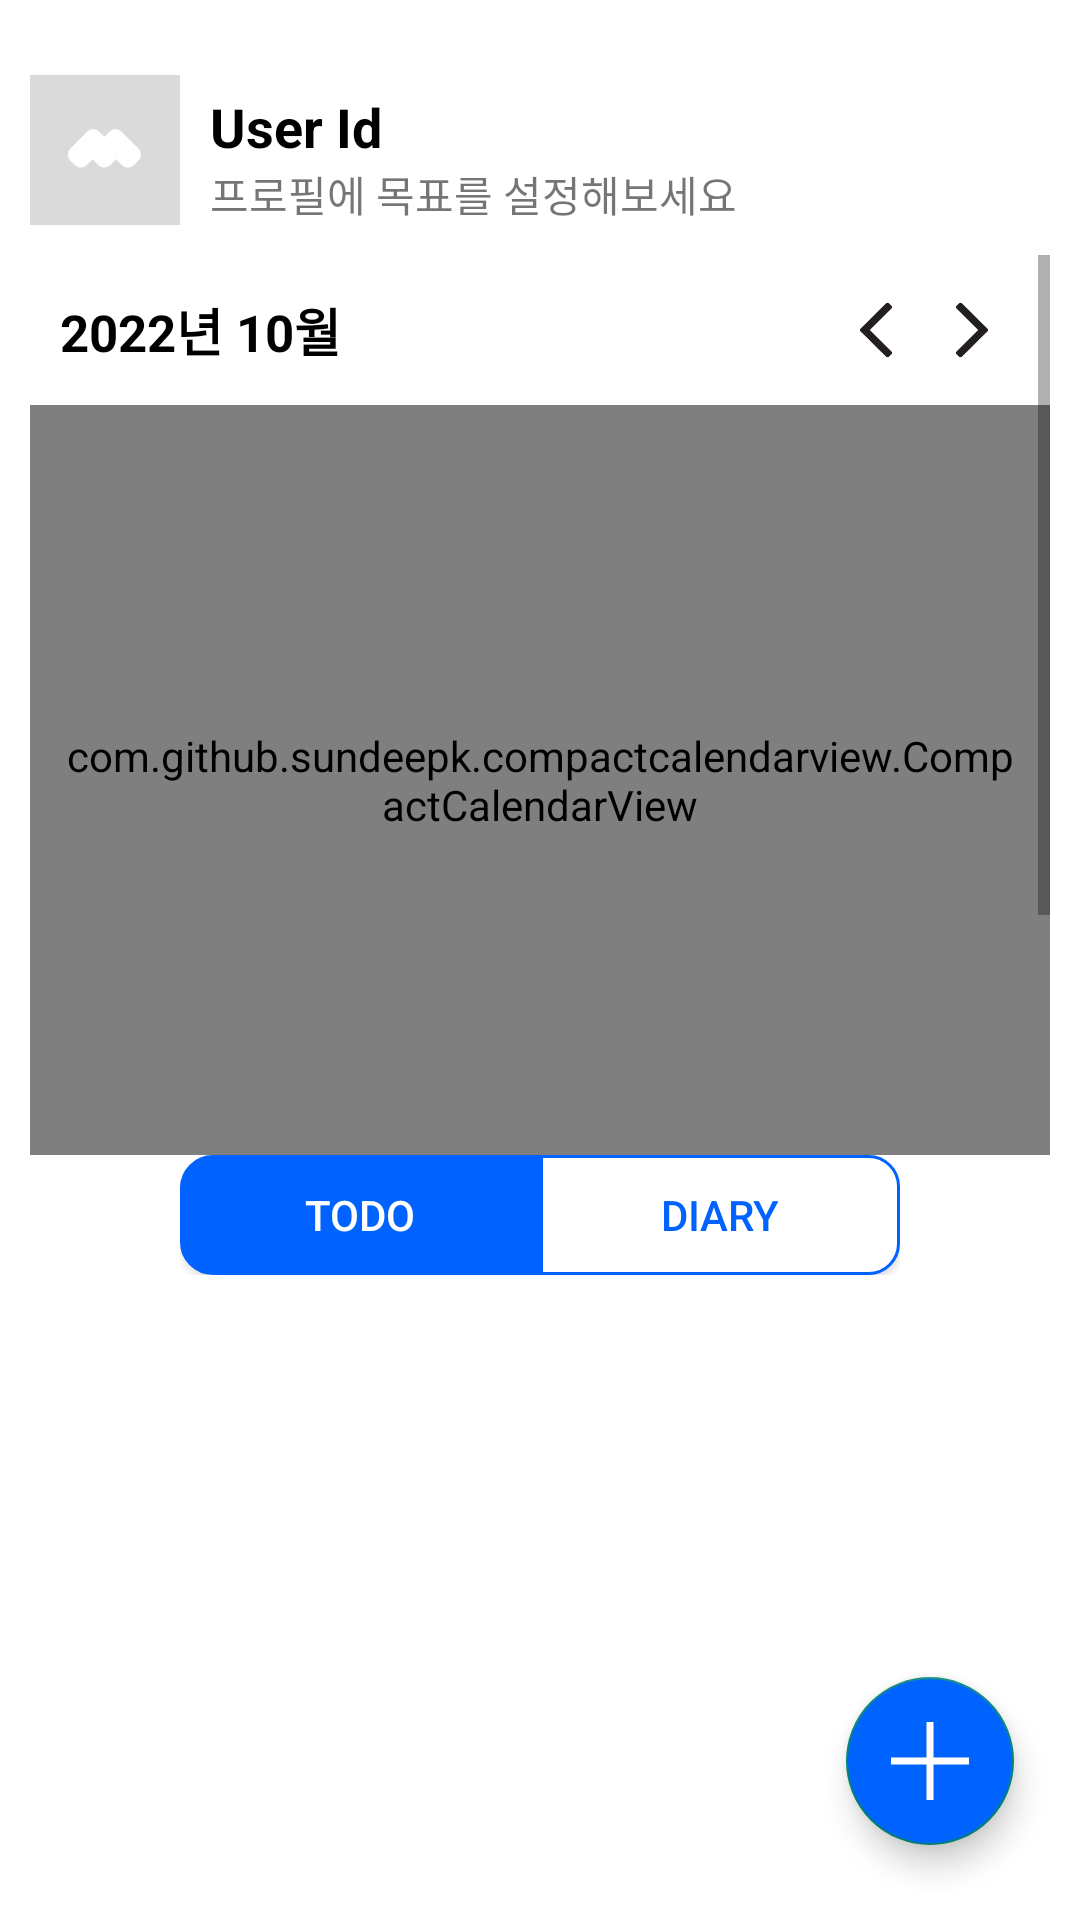

Screen size 1080w x 1920h. Icon name, then its center in pixels as (x=x, y=y):
left arrow: (x=876, y=330)
plus: (x=930, y=1761)
right arrow: (x=972, y=330)
